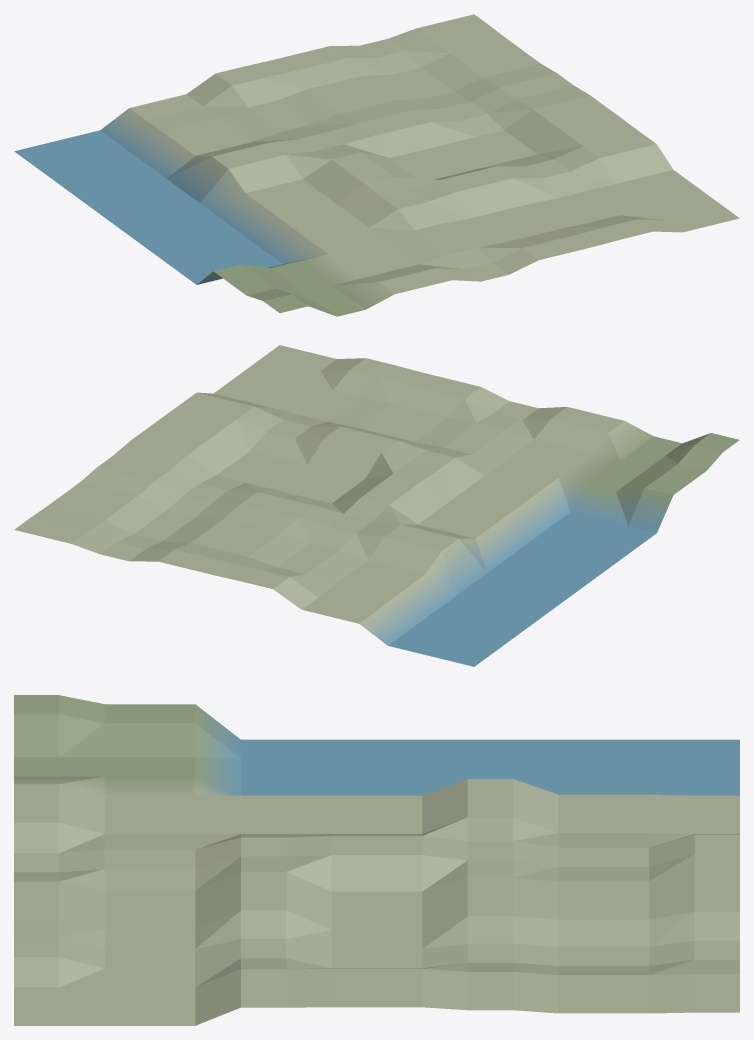
The picture shows the model from 3 angles, top to bottom: view 1: azimuth 30°, elevation 25°; view 2: azimuth 150°, elevation 25°; view 3: azimuth 270°, elevation 25°; orthographic projection. The views are drawn at different scales.
Size of the model in its own units: 32 by 2.16 by 32.
